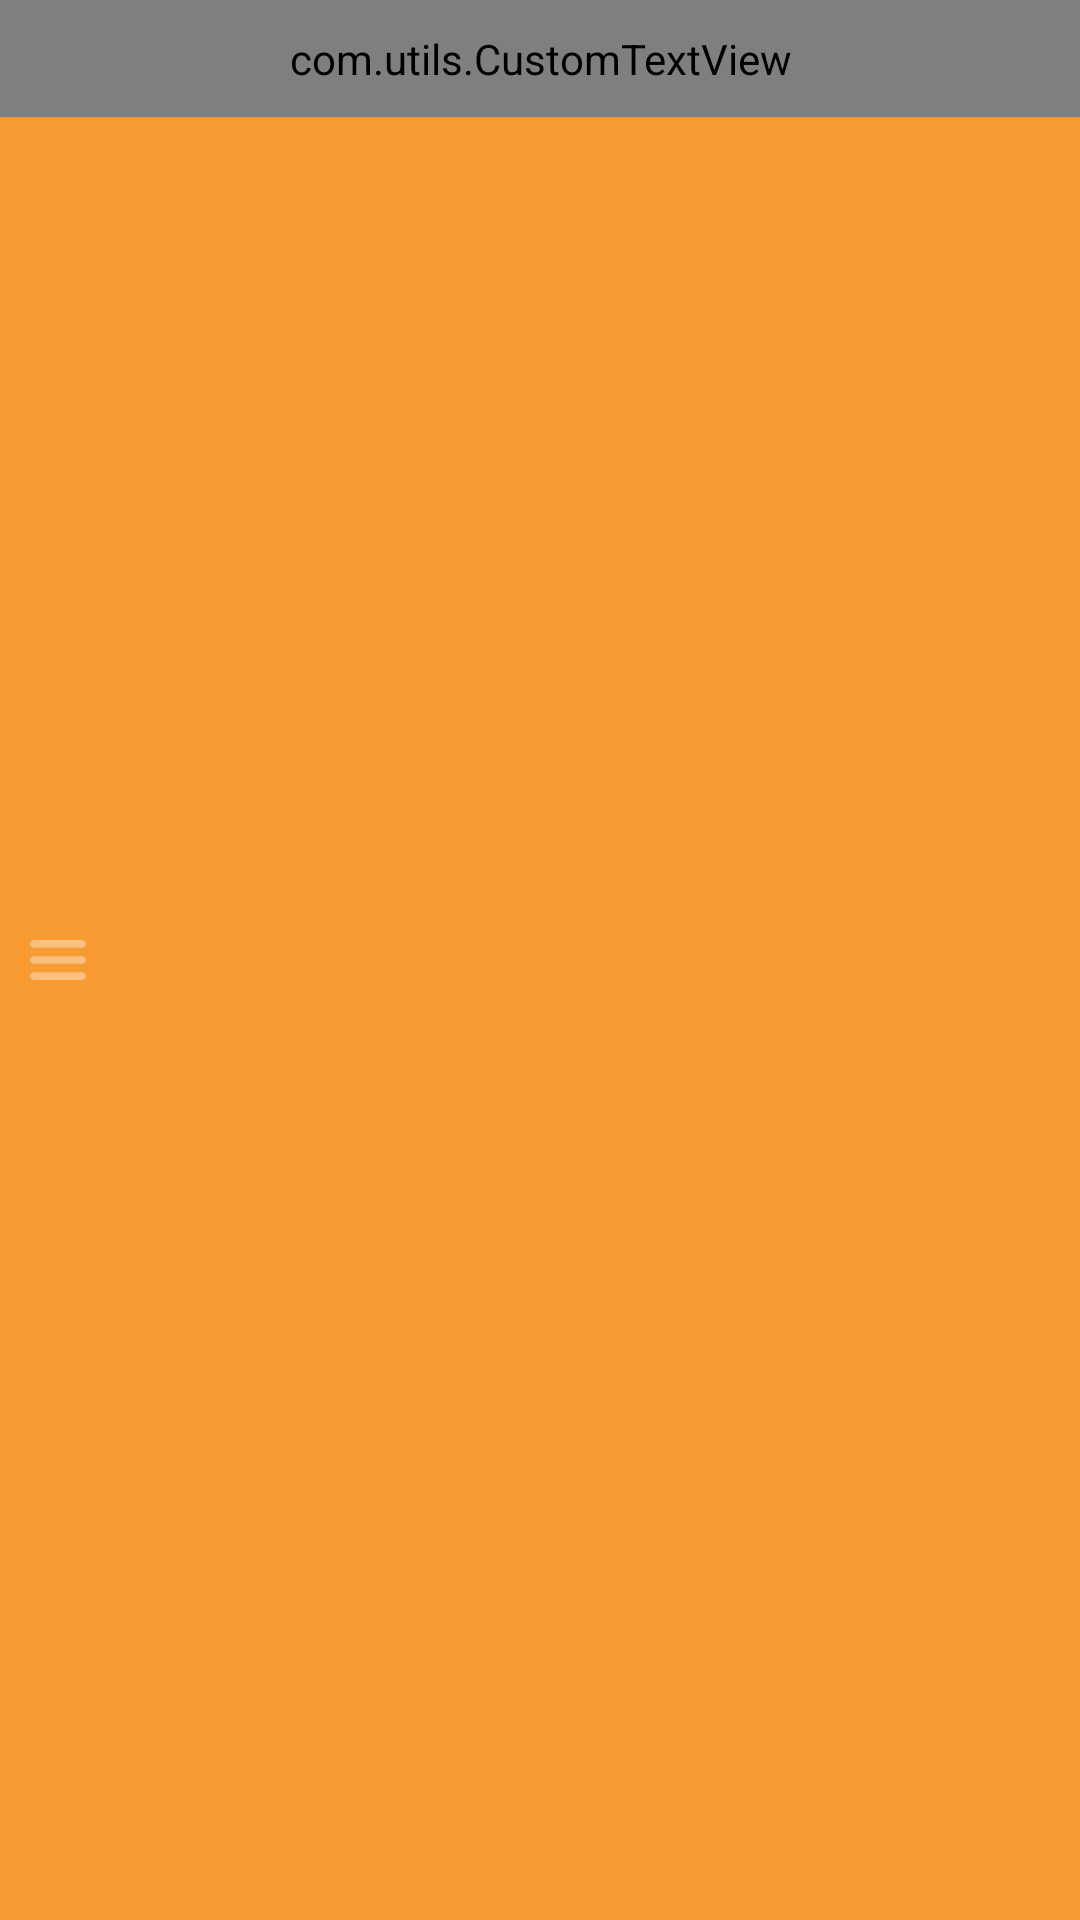

Icon bounding boxes for this 1080px x 1920px phone screenshot, format {"x1": x1, "y1": y1, "x2": x2, "y2": y2}:
menu: {"x1": 30, "y1": 940, "x2": 86, "y2": 980}
